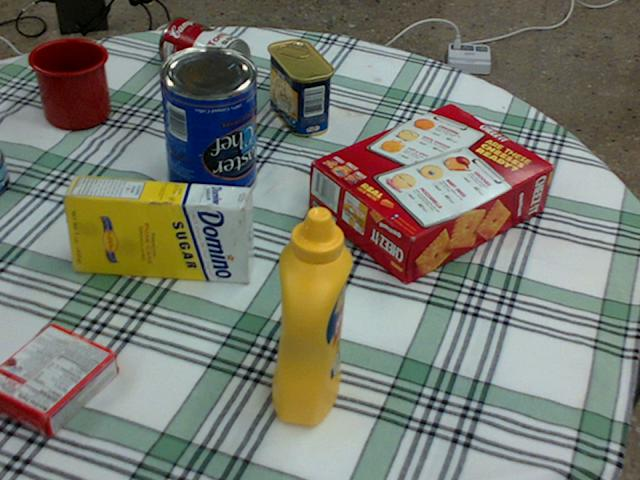cracker_box: (310, 104, 553, 284)
gelatin_box: (0, 322, 117, 436)
master_chef_can: (157, 46, 255, 203)
mug: (30, 37, 110, 127)
mustard_bottle: (272, 206, 352, 424)
potted_meat_can: (266, 39, 332, 135)
sugar_box: (62, 175, 252, 283)
tomato_soup_can: (159, 17, 248, 86)
tuna_fish_can: (0, 149, 8, 191)
